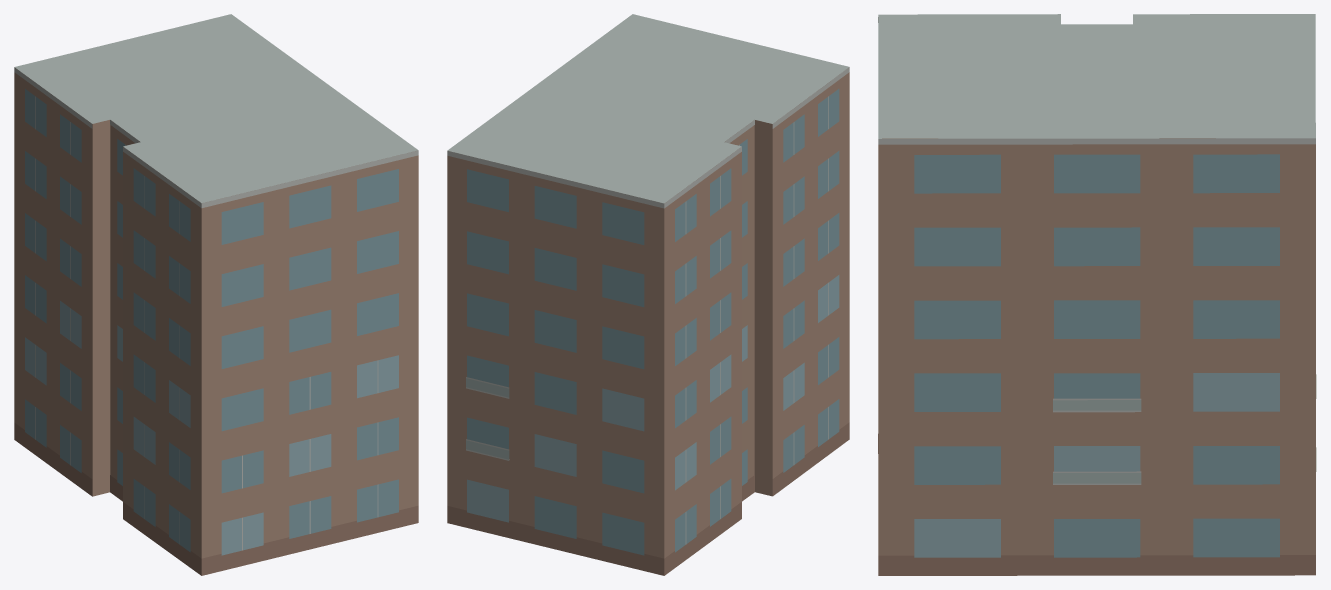
Rendered from survey-upis-32983914.glb.
3 views of the same model, side by side, from view 1: azimuth 30°, elevation 25°; view 2: azimuth 150°, elevation 25°; view 3: azimuth 270°, elevation 25° (orthographic). The views are drawn at different scales.
Parts seen in each view (by area): view 1: survey-upis-32983914.tmp; view 2: survey-upis-32983914.tmp; view 3: survey-upis-32983914.tmp.
Part boxes in pixels (x1,y1,x2,y2): survey-upis-32983914.tmp: (14, 14, 418, 575); survey-upis-32983914.tmp: (447, 14, 849, 575); survey-upis-32983914.tmp: (878, 14, 1316, 575).
Bounding box in the file's own units: 11.05 × 18 × 16.38.
